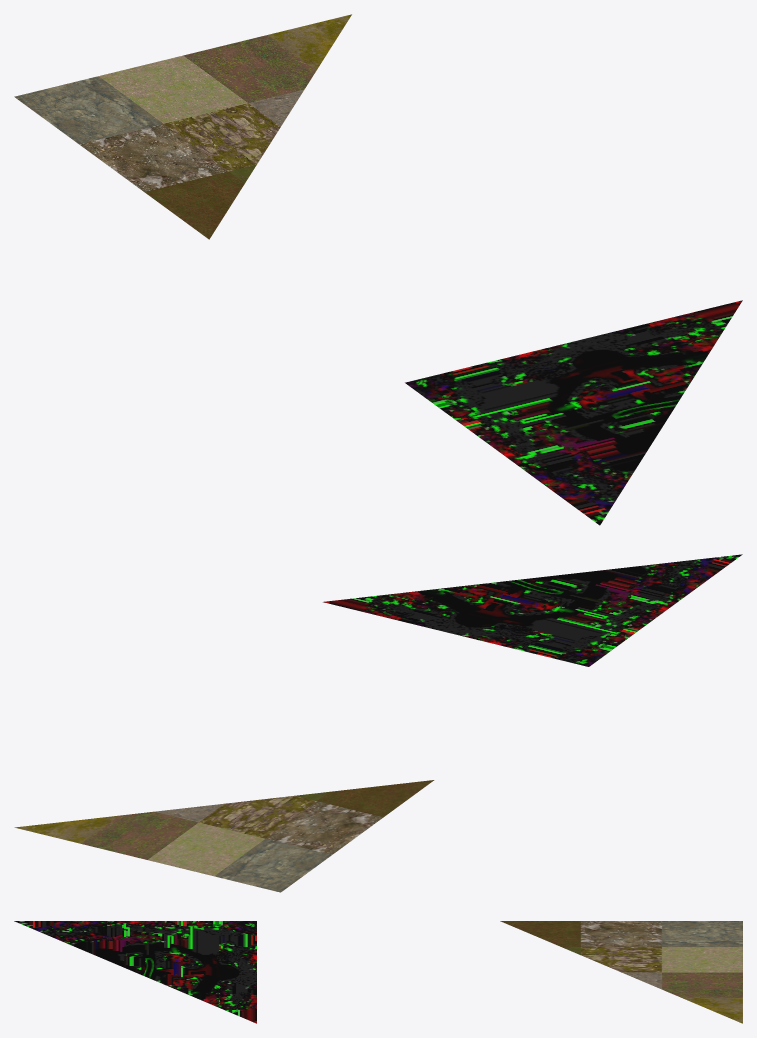
Rendered from terrain_materials_lq.glb.
3 views of the same model, one above another, from view 1: azimuth 30°, elevation 25°; view 2: azimuth 150°, elevation 25°; view 3: azimuth 270°, elevation 25° (orthographic). The views are drawn at different scales.
Visible parts, largest first — view 1: terrain_material_carrier, splatC_carrier; view 2: splatC_carrier, terrain_material_carrier; view 3: terrain_material_carrier, splatC_carrier.
Part boxes in pixels (box(x1,y1,x2,y2)): terrain_material_carrier: box(14, 14, 351, 239); splatC_carrier: box(405, 300, 742, 525); splatC_carrier: box(323, 554, 742, 666); terrain_material_carrier: box(14, 780, 434, 892); terrain_material_carrier: box(500, 921, 742, 1023); splatC_carrier: box(14, 921, 256, 1023).
Size of the model in its own units: 1 by 0 by 3.
2 materials, 2 textured.
